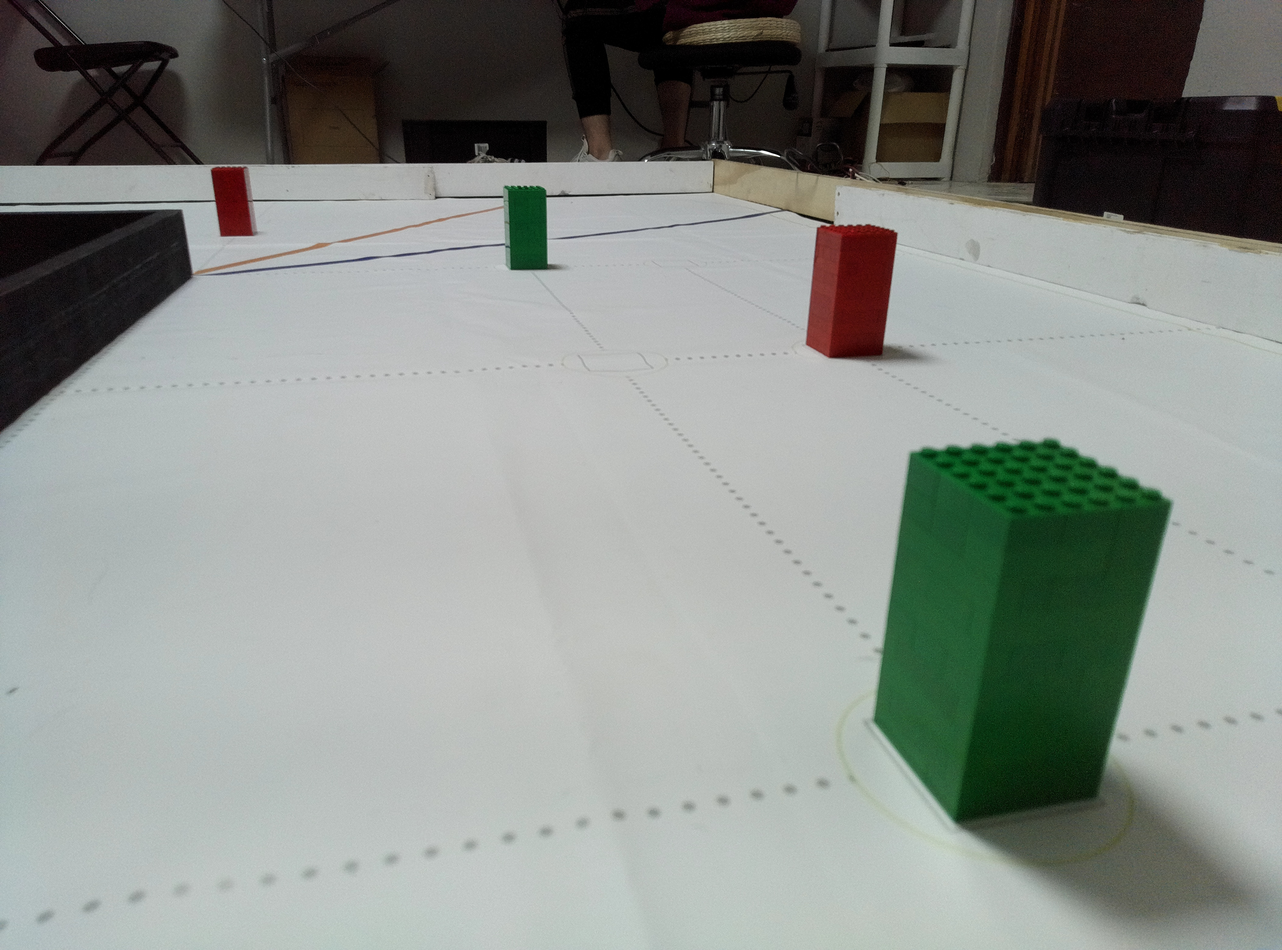greenbox: (864, 436, 1174, 838), (502, 184, 550, 269)
redbox: (803, 214, 899, 358), (207, 163, 259, 238)
